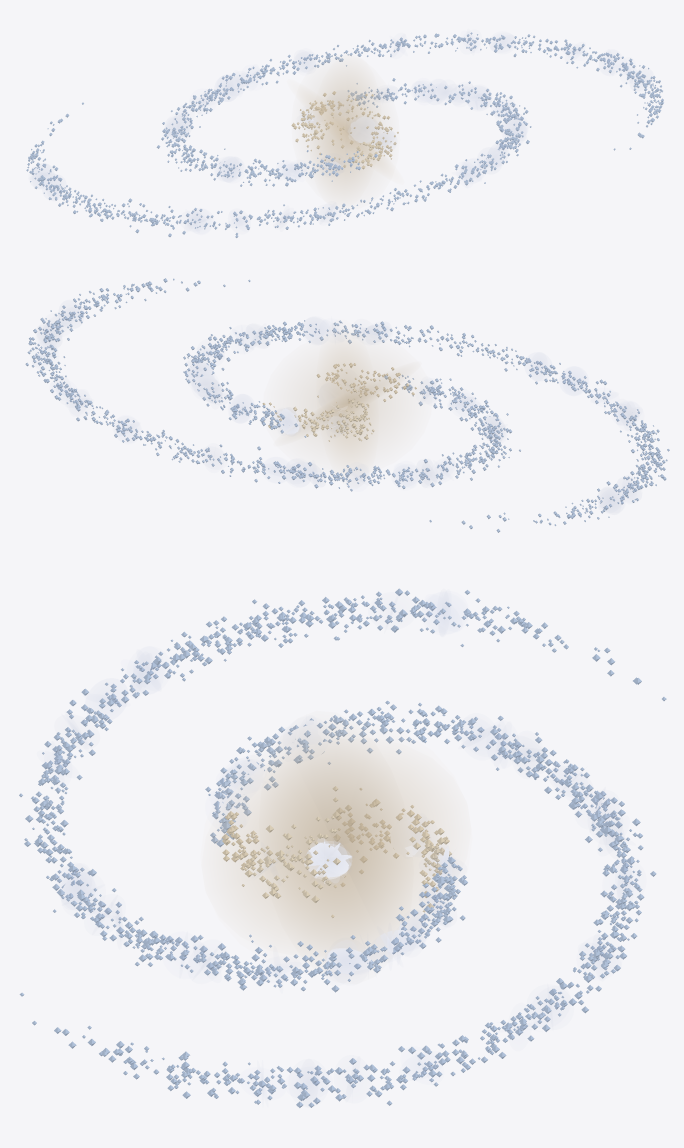
File: andromeda-illustration.glb
3 renders of one model, top to bottom at view 1: azimuth 30°, elevation 25°; view 2: azimuth 150°, elevation 25°; view 3: azimuth 270°, elevation 25°, orthographic. The views are drawn at different scales.
Size of the model in its own units: 7.29 by 1.78 by 3.92.
